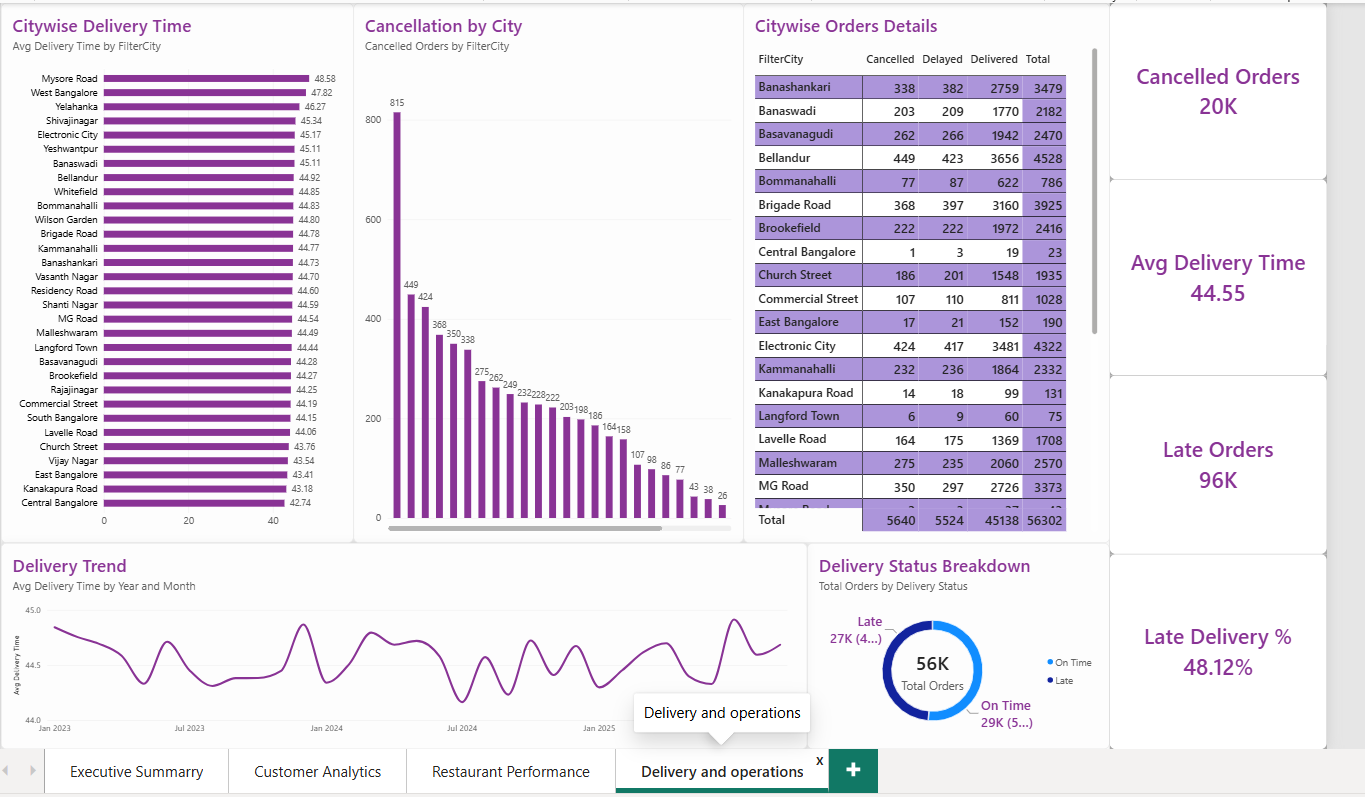

What the dashboard file says about the page in this screenshot:
{"tool":"powerbi","page":{"name":"Delivery and operations","canvas":[1920,1080],"ordinal":3},"visuals":[{"type":"cardVisual","fields":{"Data":["Orders.Avg Delivery Time"]},"box":[1605.2,255.2,314.9,284.1],"z":0},{"type":"lineChart","title":"Delivery Trend","fields":{"Category":["DateTable.Date.Variation.Date Hierarchy.Year","DateTable.Date.Variation.Date Hierarchy.Month"],"Y":["Orders.Avg Delivery Time"]},"box":[0,781.8,1167.2,298.6],"z":2000},{"type":"barChart","title":"Citywise Delivery Time","fields":{"Category":["Customers.FilterCity"],"Y":["Orders.Avg Delivery Time"]},"box":[0,0,510.3,781.8],"z":3000},{"type":"donutChart","title":"Delivery Status Breakdown","fields":{"Category":["Orders.Delivery Status"],"Y":["Orders.Total Orders"]},"box":[1167.2,781.8,437.9,298.6],"z":4000},{"type":"cardVisual","fields":{"Data":["Orders.Late Orders"]},"box":[1605.2,539.3,314.9,258.8],"z":6000},{"type":"cardVisual","fields":{"Data":["Orders.Late Delivery %"]},"box":[1605.2,798.1,314.9,282.3],"z":7000},{"type":"cardVisual","fields":{"Data":["Orders.Cancelled Orders"]},"box":[1605.2,0,314.9,255.2],"z":8000},{"type":"columnChart","title":"Cancellation by City","fields":{"Category":["Customers.FilterCity"],"Y":["Orders.Cancelled Orders"]},"box":[510.3,0,564.6,781.8],"z":8001},{"type":"pivotTable","title":"Citywise Orders Details","fields":{"Columns":["Orders.OrderStatus"],"Rows":["Customers.FilterCity"],"Values":["Orders.Total Orders"]},"box":[1074.9,0,530.2,781.8],"z":8002}]}

Visuals, with their boxes on the page's 1920x1080 design canvas (x1, y1, x2, y2). These are canvas units, not pixel positions in the 1365x797 screenshot, which may show the page scaled, cropped or inside an application window:
cardVisual - Orders.Avg Delivery Time: region(1605, 255, 1920, 539)
"Delivery Trend" lineChart: region(0, 782, 1167, 1080)
"Citywise Delivery Time" barChart: region(0, 0, 510, 782)
"Delivery Status Breakdown" donutChart: region(1167, 782, 1605, 1080)
cardVisual - Orders.Late Orders: region(1605, 539, 1920, 798)
cardVisual - Orders.Late Delivery %: region(1605, 798, 1920, 1080)
cardVisual - Orders.Cancelled Orders: region(1605, 0, 1920, 255)
"Cancellation by City" columnChart: region(510, 0, 1075, 782)
"Citywise Orders Details" pivotTable: region(1075, 0, 1605, 782)
